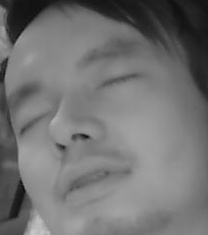blink: (17, 111, 57, 135), (94, 71, 138, 92)
mouth: (54, 152, 137, 210)
